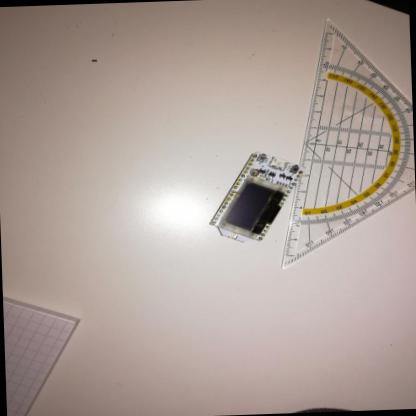Heltec_ESP32_Lora: (206, 150, 310, 250)
